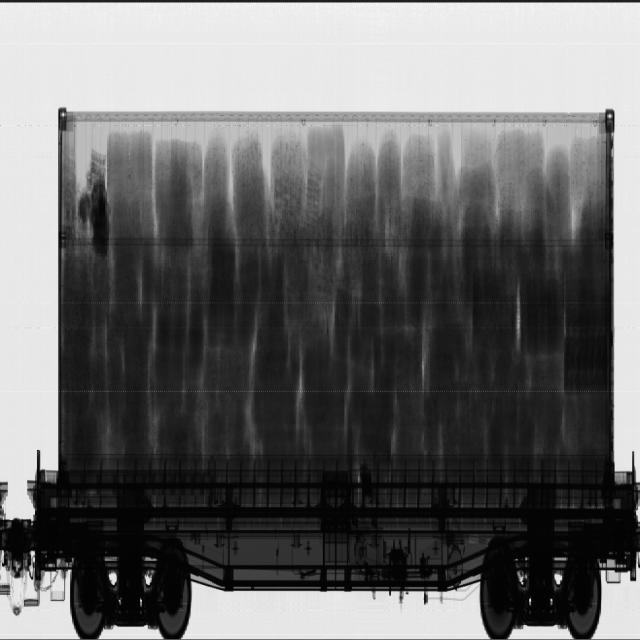textiles: (62, 125, 604, 458)
